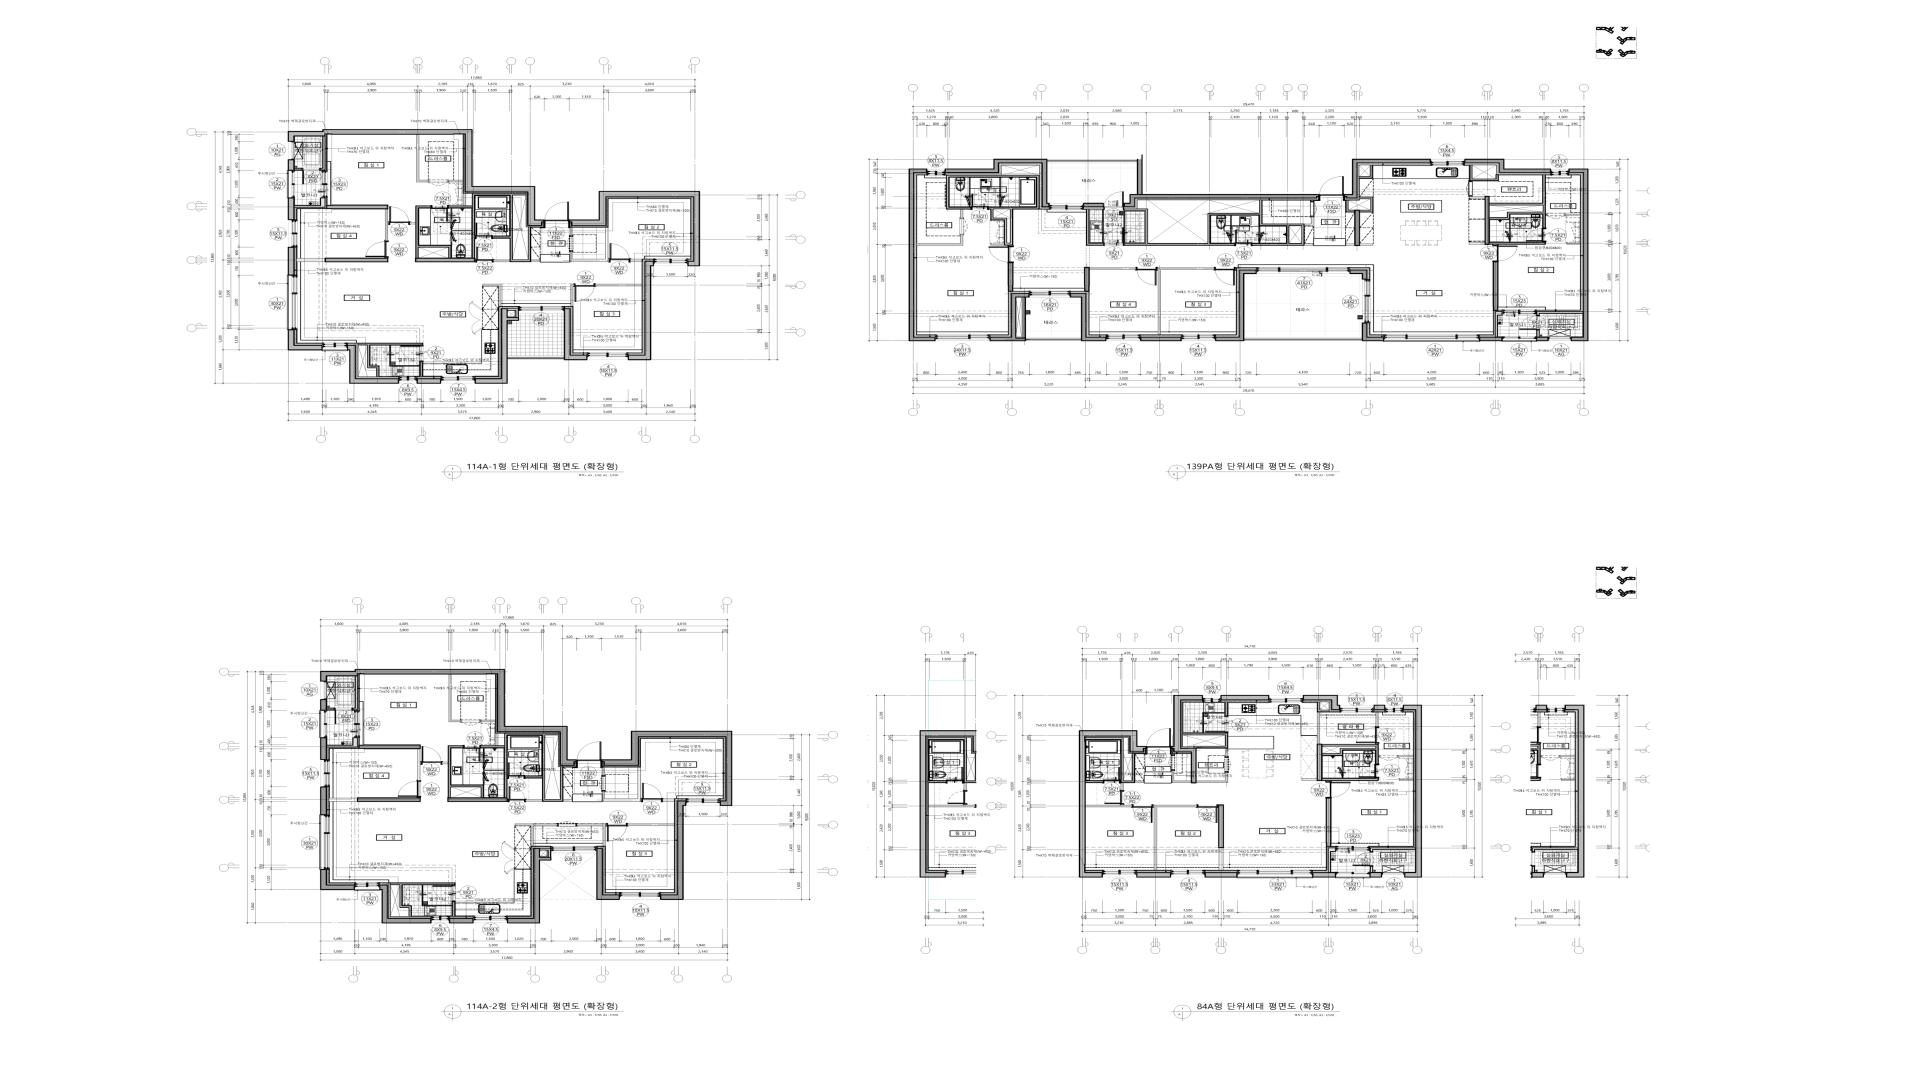door: (1146, 728, 1172, 755), (576, 742, 602, 767), (1319, 176, 1344, 201), (544, 203, 569, 228), (1325, 781, 1351, 799), (1492, 245, 1518, 262), (608, 243, 630, 263), (989, 246, 1014, 263), (1136, 267, 1158, 286), (573, 283, 595, 302), (420, 746, 442, 765), (641, 783, 663, 802), (1132, 804, 1154, 823), (365, 241, 389, 258), (432, 885, 456, 902), (1356, 727, 1380, 744), (1205, 716, 1229, 733), (1215, 267, 1236, 286), (1103, 227, 1124, 246), (388, 206, 409, 225), (606, 823, 627, 842), (1197, 804, 1218, 823), (1104, 191, 1124, 210), (400, 346, 423, 362), (398, 781, 421, 797), (1519, 315, 1540, 330), (463, 745, 481, 762), (1104, 790, 1124, 805), (1359, 764, 1380, 778), (1526, 228, 1547, 242), (1103, 767, 1120, 784), (431, 205, 448, 222), (971, 194, 989, 210), (475, 247, 493, 263), (334, 708, 352, 724), (475, 223, 493, 239), (302, 168, 320, 184), (1235, 230, 1252, 246), (508, 763, 525, 779), (508, 787, 526, 802), (461, 719, 481, 726), (960, 219, 968, 234), (428, 180, 448, 186), (557, 821, 577, 827), (1546, 213, 1565, 219), (1379, 755, 1398, 761), (1466, 181, 1473, 196), (1225, 757, 1232, 772)
wall: (320, 669, 576, 766), (288, 129, 544, 226), (1079, 730, 1146, 878), (569, 191, 700, 266), (602, 731, 732, 806), (1124, 159, 1319, 207), (1124, 200, 1314, 246), (946, 175, 1040, 246), (448, 193, 540, 262), (481, 733, 572, 802), (945, 159, 1050, 207), (909, 169, 936, 341), (1158, 268, 1215, 335), (1344, 159, 1431, 199), (1569, 169, 1589, 341), (507, 848, 551, 924), (475, 309, 519, 384), (1403, 705, 1422, 878), (1086, 738, 1144, 790), (1215, 270, 1257, 341), (1490, 175, 1546, 228), (1154, 805, 1197, 870), (1172, 695, 1203, 783), (660, 801, 686, 900), (628, 261, 654, 360), (390, 883, 456, 917), (409, 206, 452, 258), (358, 343, 423, 377), (442, 746, 484, 797), (379, 885, 432, 924), (347, 345, 399, 384), (990, 293, 1030, 341), (1070, 293, 1106, 341), (602, 767, 641, 802), (570, 228, 608, 262), (596, 848, 620, 900), (564, 309, 588, 360), (1465, 159, 1551, 173), (1323, 744, 1379, 764), (1182, 733, 1228, 757), (515, 824, 557, 846), (320, 869, 355, 890), (288, 330, 322, 351), (577, 824, 606, 846), (1086, 209, 1103, 246), (448, 674, 461, 722), (416, 135, 428, 182), (916, 234, 963, 246), (1303, 695, 1340, 710), (1317, 702, 1329, 744), (1469, 165, 1499, 181), (1245, 337, 1362, 341), (482, 284, 501, 306), (1362, 323, 1384, 341), (1047, 159, 1137, 163), (1197, 772, 1228, 783), (357, 797, 421, 802), (447, 797, 508, 802), (295, 198, 325, 208), (1493, 262, 1499, 311), (1326, 799, 1332, 847), (327, 738, 357, 747), (1218, 804, 1224, 848), (324, 258, 388, 262), (359, 745, 421, 749), (326, 205, 388, 209), (1485, 196, 1490, 245), (1221, 695, 1269, 700), (415, 258, 475, 262), (1359, 197, 1374, 213), (1172, 771, 1191, 783), (508, 356, 564, 360), (1317, 744, 1323, 781), (1026, 337, 1081, 341), (1354, 210, 1360, 246), (1136, 872, 1171, 878), (287, 247, 294, 276), (1205, 872, 1238, 878), (320, 787, 327, 815), (1359, 165, 1373, 179), (1328, 848, 1336, 872), (1537, 311, 1583, 315), (1495, 311, 1502, 337), (1370, 848, 1415, 852), (1350, 270, 1368, 280), (353, 676, 358, 711), (320, 137, 325, 171), (1323, 778, 1379, 781), (1490, 242, 1546, 245), (1140, 337, 1182, 341), (320, 737, 327, 760), (288, 198, 295, 220), (416, 378, 441, 384), (1084, 267, 1090, 292), (1008, 263, 1013, 292), (1312, 872, 1336, 878), (449, 918, 473, 924), (1023, 298, 1026, 338), (329, 798, 357, 802), (1219, 848, 1224, 870), (297, 258, 324, 262), (540, 848, 551, 857), (1345, 201, 1354, 212), (417, 749, 420, 781), (385, 209, 388, 241), (1479, 337, 1503, 341), (595, 284, 642, 286), (627, 824, 674, 826), (1086, 805, 1132, 807), (1090, 268, 1136, 270), (508, 309, 519, 317), (320, 699, 327, 711), (288, 159, 295, 171), (1083, 203, 1104, 207), (1370, 872, 1382, 878), (570, 284, 573, 306), (419, 362, 423, 377), (452, 902, 456, 917), (1374, 705, 1385, 710), (1536, 337, 1549, 341), (1086, 780, 1103, 783), (1469, 242, 1485, 245), (1376, 712, 1379, 727), (1225, 702, 1228, 716), (630, 259, 642, 262), (495, 733, 498, 745), (663, 799, 674, 802), (1469, 196, 1485, 198), (1565, 214, 1580, 216), (1302, 779, 1317, 781), (481, 720, 495, 722), (1399, 779, 1413, 781), (449, 180, 463, 182), (1536, 330, 1540, 337), (602, 767, 605, 776), (1567, 243, 1580, 245), (1360, 244, 1373, 246), (327, 708, 334, 711), (295, 168, 302, 171), (1370, 866, 1373, 872), (570, 228, 572, 236), (1346, 244, 1354, 246), (1398, 756, 1413, 757)
window: (1384, 334, 1479, 342), (1257, 267, 1350, 274), (319, 815, 330, 869), (1238, 870, 1312, 878), (287, 276, 297, 329), (936, 334, 990, 341), (1363, 280, 1371, 323), (587, 352, 628, 360), (620, 892, 660, 900), (519, 306, 564, 313), (551, 846, 596, 853), (441, 376, 475, 384), (686, 798, 720, 806), (1340, 705, 1374, 713), (1269, 695, 1303, 703), (321, 760, 330, 787), (288, 220, 297, 247), (1030, 291, 1070, 297), (473, 916, 507, 923), (1171, 870, 1205, 877), (1431, 159, 1465, 166), (1106, 334, 1140, 341), (1103, 870, 1136, 877), (654, 259, 687, 266), (1182, 334, 1215, 341), (1050, 203, 1083, 210), (287, 171, 295, 198), (352, 711, 360, 738), (355, 882, 379, 891), (319, 711, 327, 737), (1336, 872, 1370, 878), (1503, 336, 1536, 342), (323, 343, 347, 351), (320, 171, 327, 198), (1502, 310, 1537, 315), (1336, 846, 1370, 851), (1385, 705, 1403, 713), (1203, 695, 1221, 703), (431, 916, 449, 923), (1551, 169, 1569, 176), (927, 169, 945, 176), (399, 376, 416, 383), (1382, 872, 1404, 877), (288, 142, 294, 159), (321, 682, 327, 699), (1549, 337, 1571, 341)
